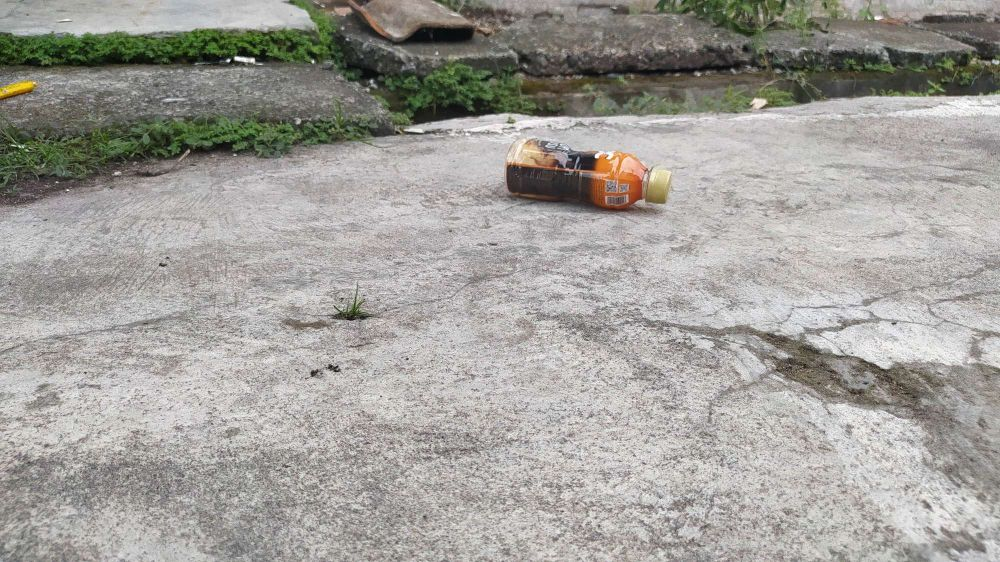botol: (501, 122, 687, 231)
